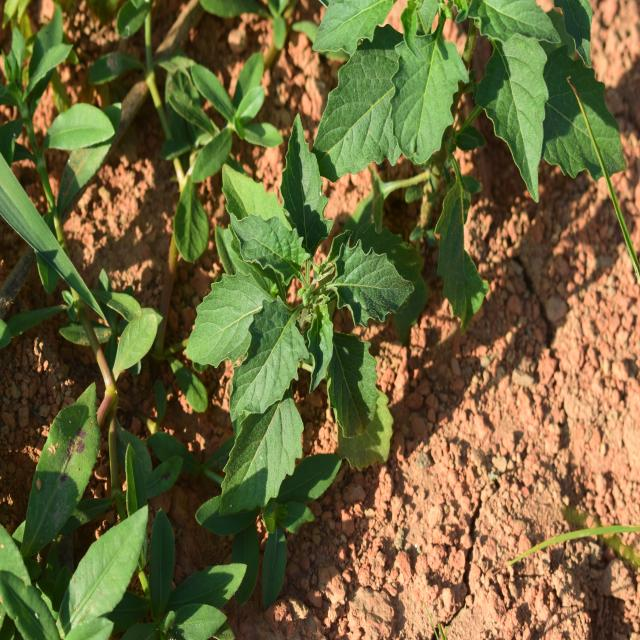Black_nightshade: (191, 147, 398, 460), (342, 0, 620, 232)
